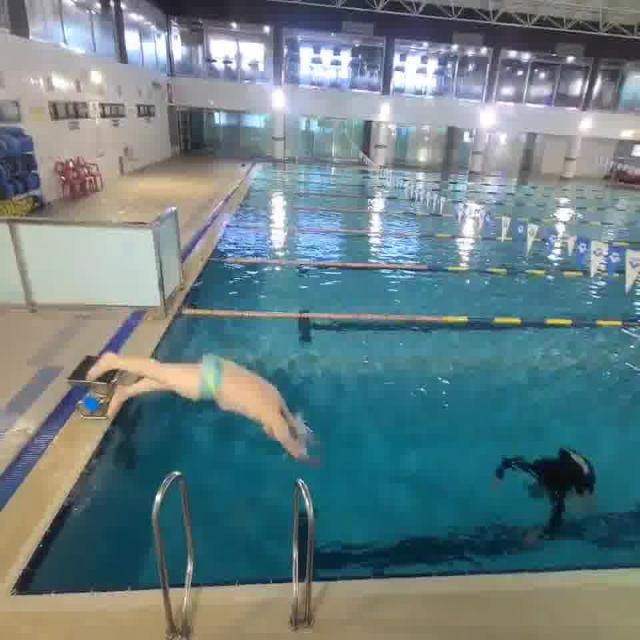Drowning: (480, 421, 622, 557)
